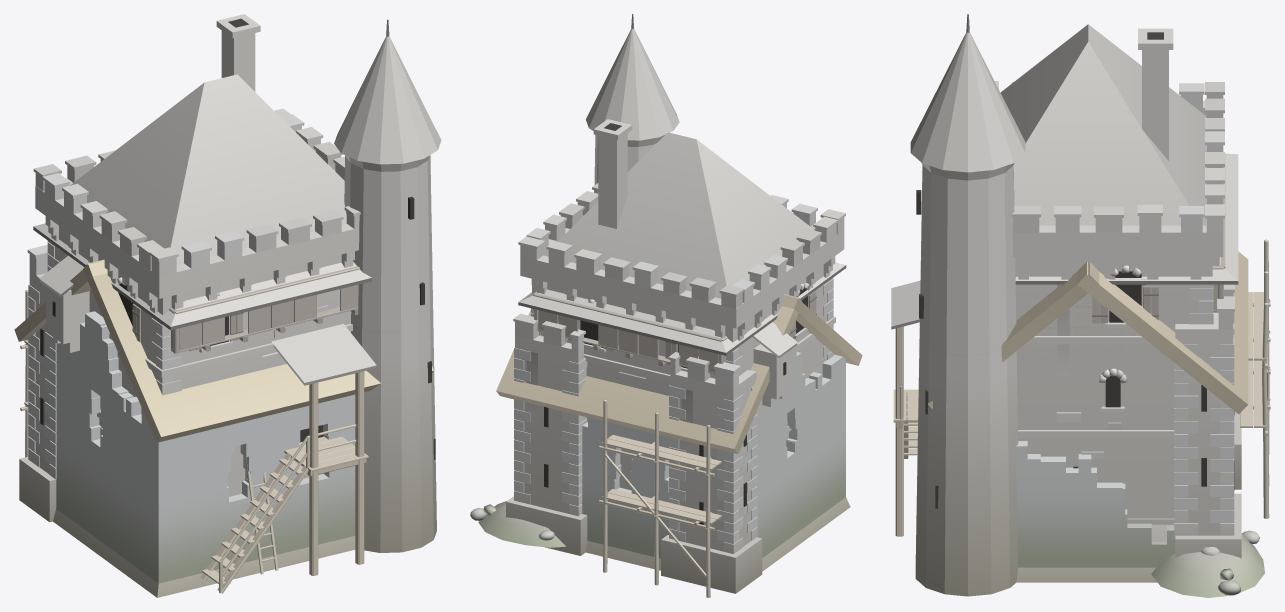
File: castle_kit.glb
3 renders of one model, left to right at view 1: azimuth 30°, elevation 25°; view 2: azimuth 150°, elevation 25°; view 3: azimuth 270°, elevation 25°, orthographic. The views are drawn at different scales.
Visible parts, largest first — view 1: ck_keep_t2, ck_keep_t1, ck_ruin_keep, ck_corner_tower, ck_gatehouse, ck_bell_tower; view 2: ck_keep_t2, ck_gatehouse, ck_keep_t1, ck_ruin_keep, ck_corner_tower; view 3: ck_keep_t2, ck_ruin_keep, ck_keep_t1, ck_gatehouse, ck_corner_tower.
Boxes of the visible parts, left/top/right/bottom form: ck_keep_t2: left=33, top=14, right=441, bottom=597; ck_keep_t1: left=14, top=259, right=433, bottom=583; ck_ruin_keep: left=35, top=311, right=355, bottom=583; ck_corner_tower: left=33, top=223, right=371, bottom=353; ck_gatehouse: left=19, top=244, right=56, bottom=522; ck_bell_tower: left=245, top=457, right=278, bottom=574; ck_keep_t2: left=518, top=14, right=850, bottom=571; ck_gatehouse: left=506, top=313, right=762, bottom=593; ck_keep_t1: left=496, top=294, right=862, bottom=597; ck_ruin_keep: left=470, top=347, right=845, bottom=558; ck_corner_tower: left=518, top=262, right=846, bottom=374; ck_keep_t2: left=891, top=14, right=1224, bottom=596; ck_ruin_keep: left=1016, top=454, right=1264, bottom=597; ck_keep_t1: left=928, top=239, right=1270, bottom=558; ck_gatehouse: left=1174, top=284, right=1241, bottom=558; ck_corner_tower: left=1015, top=153, right=1238, bottom=312.
Bounding box in the file's own units: 9.79 × 15.06 × 9.15.
